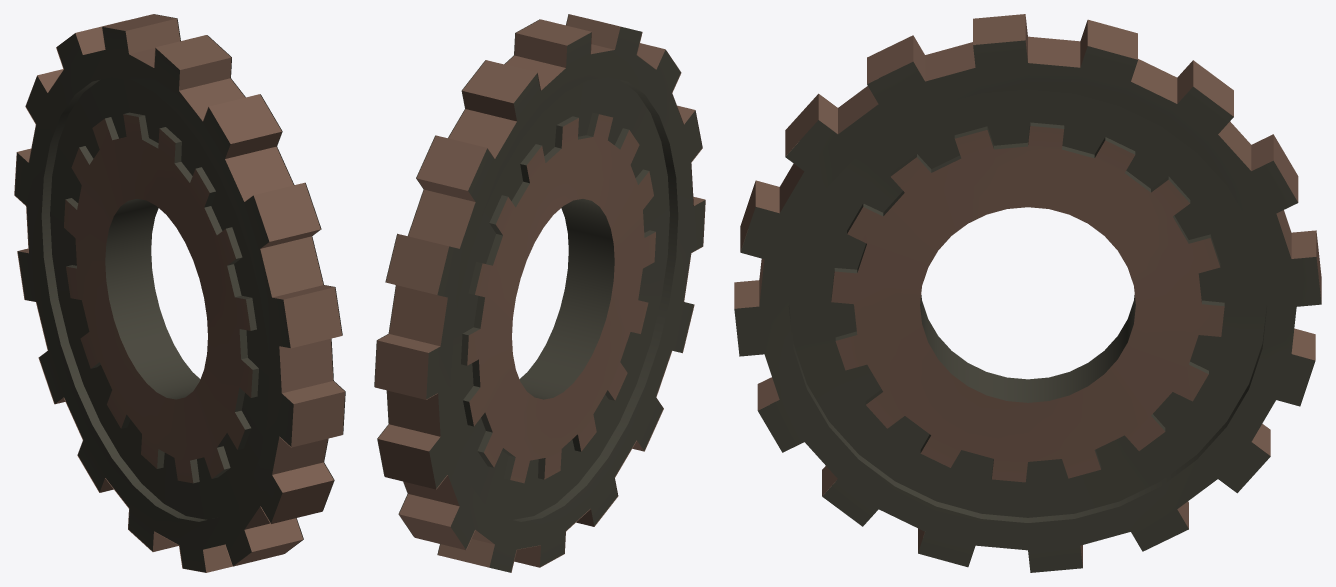
File: roue moyenne (1).fbx
3 renders of one model, left to right at view 1: azimuth 30°, elevation 25°; view 2: azimuth 150°, elevation 25°; view 3: azimuth 270°, elevation 25°, orthographic. The views are drawn at different scales.
Visible parts, largest first — view 1: Cylinder.005; view 2: Cylinder.005; view 3: Cylinder.005.
Part boxes in pixels (<box>): Cylinder.005: <box>14,14,345,572</box>; Cylinder.005: <box>374,14,705,572</box>; Cylinder.005: <box>734,14,1321,572</box>.
Size of the model in its own units: 34.6 by 322 by 322.
